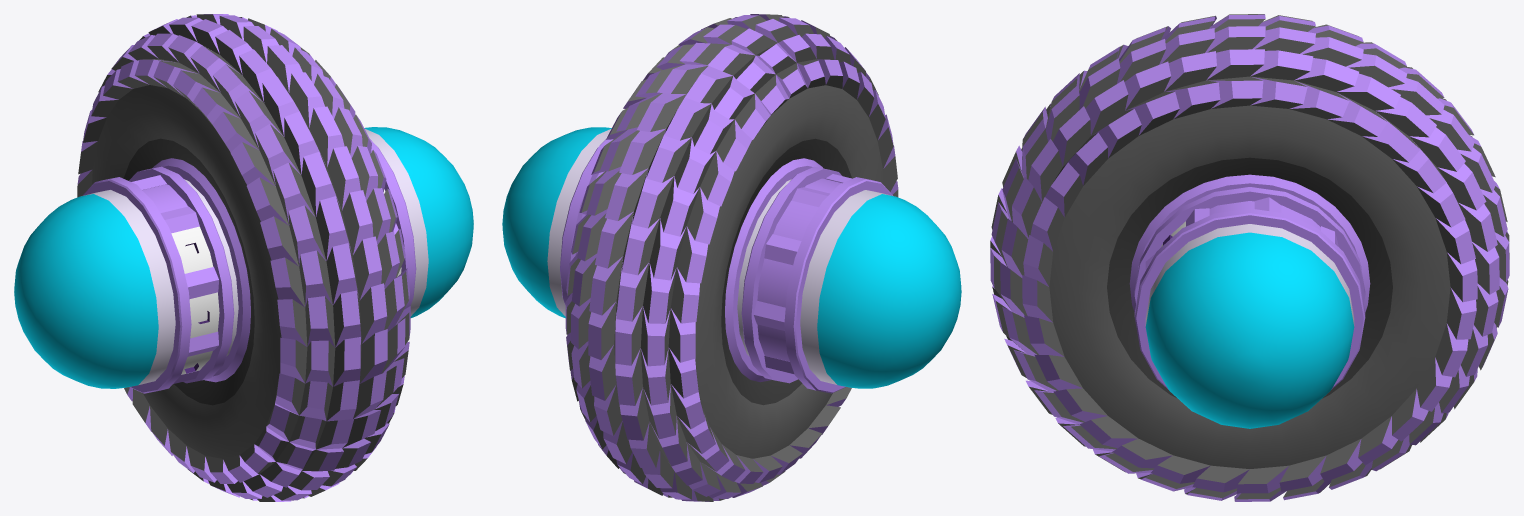
File: DireTire.fbx
3 renders of one model, left to right at view 1: azimuth 30°, elevation 25°; view 2: azimuth 150°, elevation 25°; view 3: azimuth 270°, elevation 25°, orthographic. The views are drawn at different scales.
Visible parts, largest first — view 1: wheel, body_dome (×2), visor (×2), body_frame (×2), pCube27, pCube35, pCube28; view 2: wheel, body_dome (×2), visor (×2), body_frame (×2), pCube33, pCube32; view 3: wheel, body_dome, visor, body_frame.
Boxes of the visible parts, <box> form: wheel: <box>77,14,410,501</box>; body_dome (×2): <box>14,127,473,388</box>; visor (×2): <box>83,139,416,393</box>; body_frame (×2): <box>81,128,428,384</box>; pCube27: <box>185,267,218,299</box>; pCube35: <box>160,206,199,233</box>; pCube28: <box>187,331,218,356</box>; wheel: <box>565,14,898,501</box>; body_dome (×2): <box>502,127,961,388</box>; visor (×2): <box>560,139,892,393</box>; body_frame (×2): <box>547,128,892,384</box>; pCube33: <box>764,234,801,265</box>; pCube32: <box>753,300,785,330</box>; wheel: <box>990,14,1509,501</box>; body_dome: <box>1145,232,1354,428</box>; visor: <box>1134,187,1365,389</box>; body_frame: <box>1145,224,1354,325</box>.
Size of the model in its own units: 1723 by 1706 by 1706.
